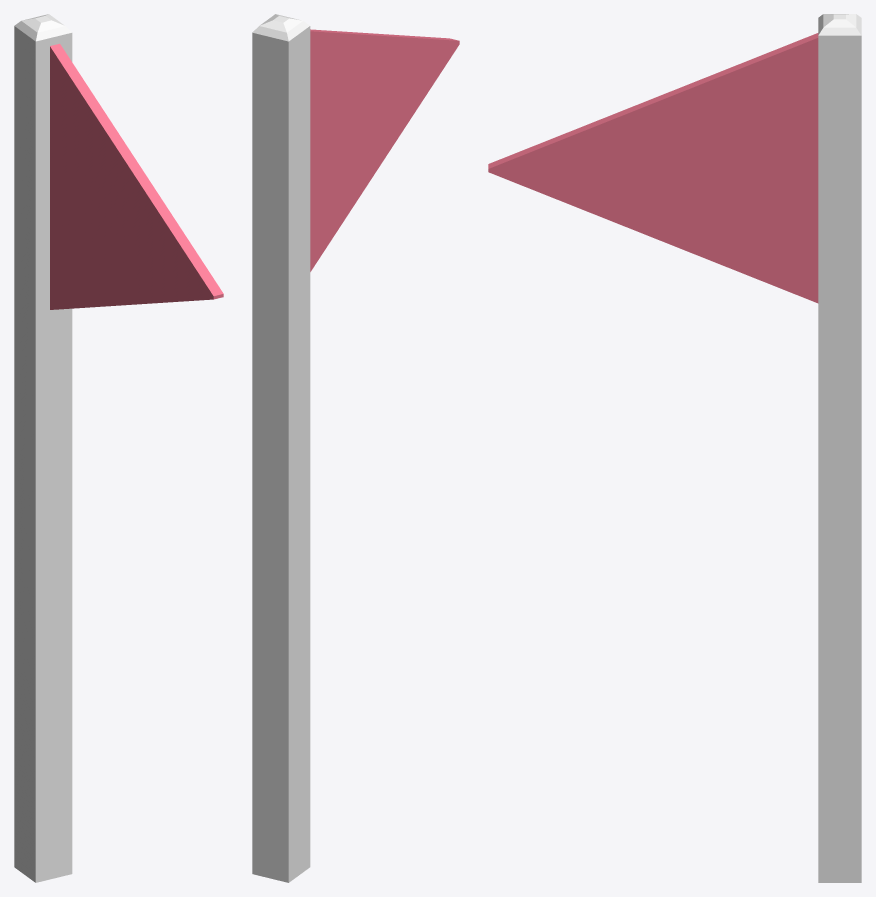
The model's file is bandeira.obj.
The picture shows the model from 3 angles, left to right: view 1: azimuth 30°, elevation 25°; view 2: azimuth 150°, elevation 25°; view 3: azimuth 270°, elevation 25°; orthographic projection.
Visible parts, largest first — view 1: Cube.002, Plane_Plane.002; view 2: Cube.002, Plane_Plane.002; view 3: Plane_Plane.002, Cube.002.
Boxes of the visible parts, bbox=[...] form: Cube.002: bbox=[14, 14, 72, 882]; Plane_Plane.002: bbox=[50, 43, 223, 309]; Cube.002: bbox=[252, 14, 310, 882]; Plane_Plane.002: bbox=[310, 29, 459, 271]; Plane_Plane.002: bbox=[488, 33, 818, 303]; Cube.002: bbox=[818, 14, 861, 882].
Size of the model in its own units: 0.0823 by 1.83 by 0.7225.
